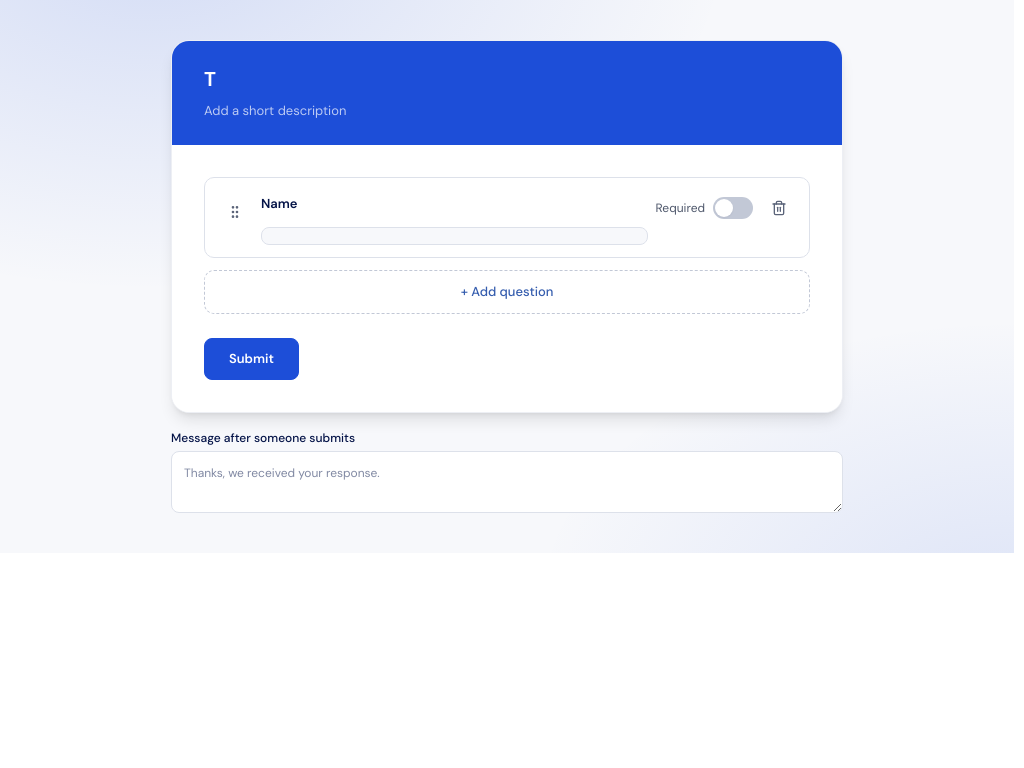
Test: simple canvas › offers + Add question on a wide screen: the common types open under the button, Esc closes them
Click the button "+ Add question": (507, 292) [204,270,810,314]
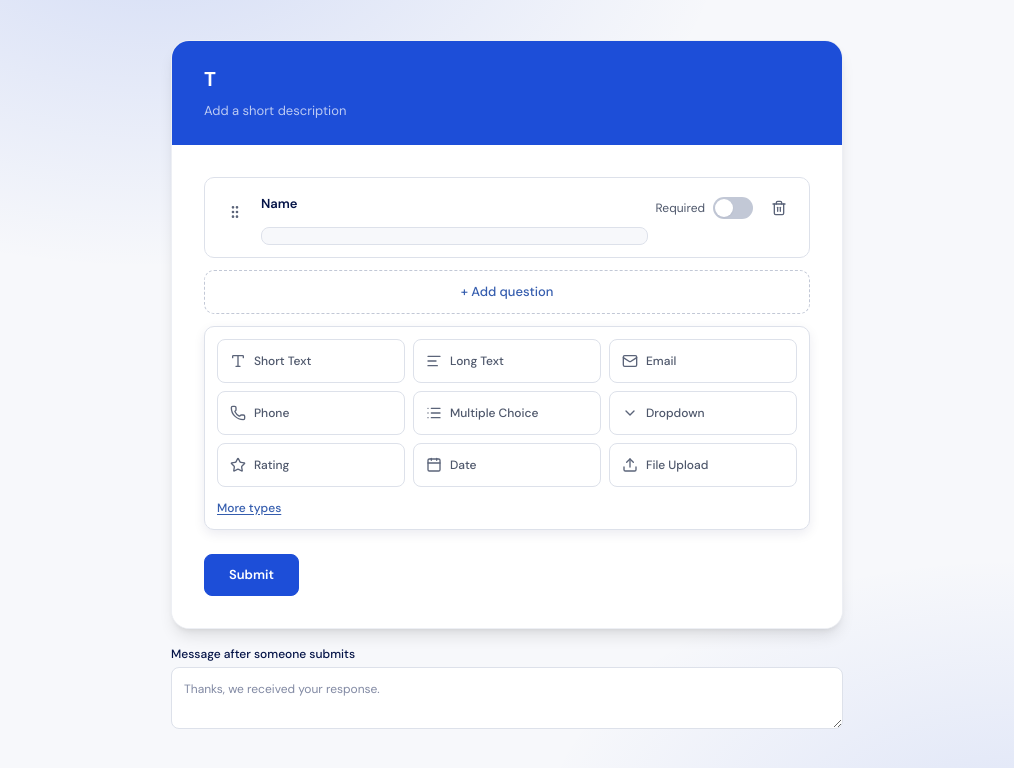
Expected: the button "Short Text" is shown, [217,339,405,383]
Expected: the button "Long Text" is shown, [413,339,601,383]
Expected: the button "Email" is shown, [609,339,797,383]
Press Escape in the element that starts with "+ Add question", box [204,270,810,530]
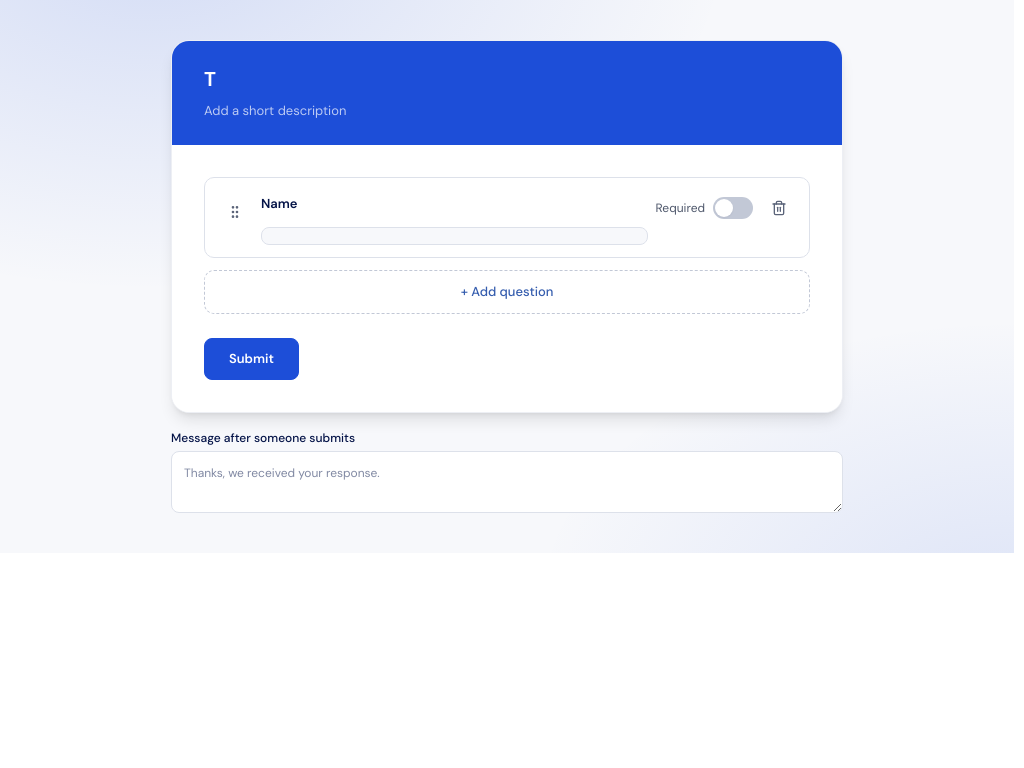
Expected: the button "Long Text" is gone
